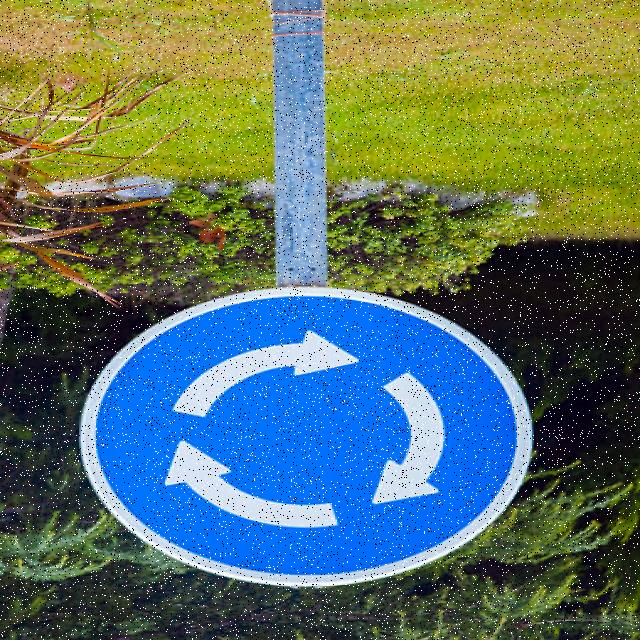round_about: (74, 288, 542, 590)
